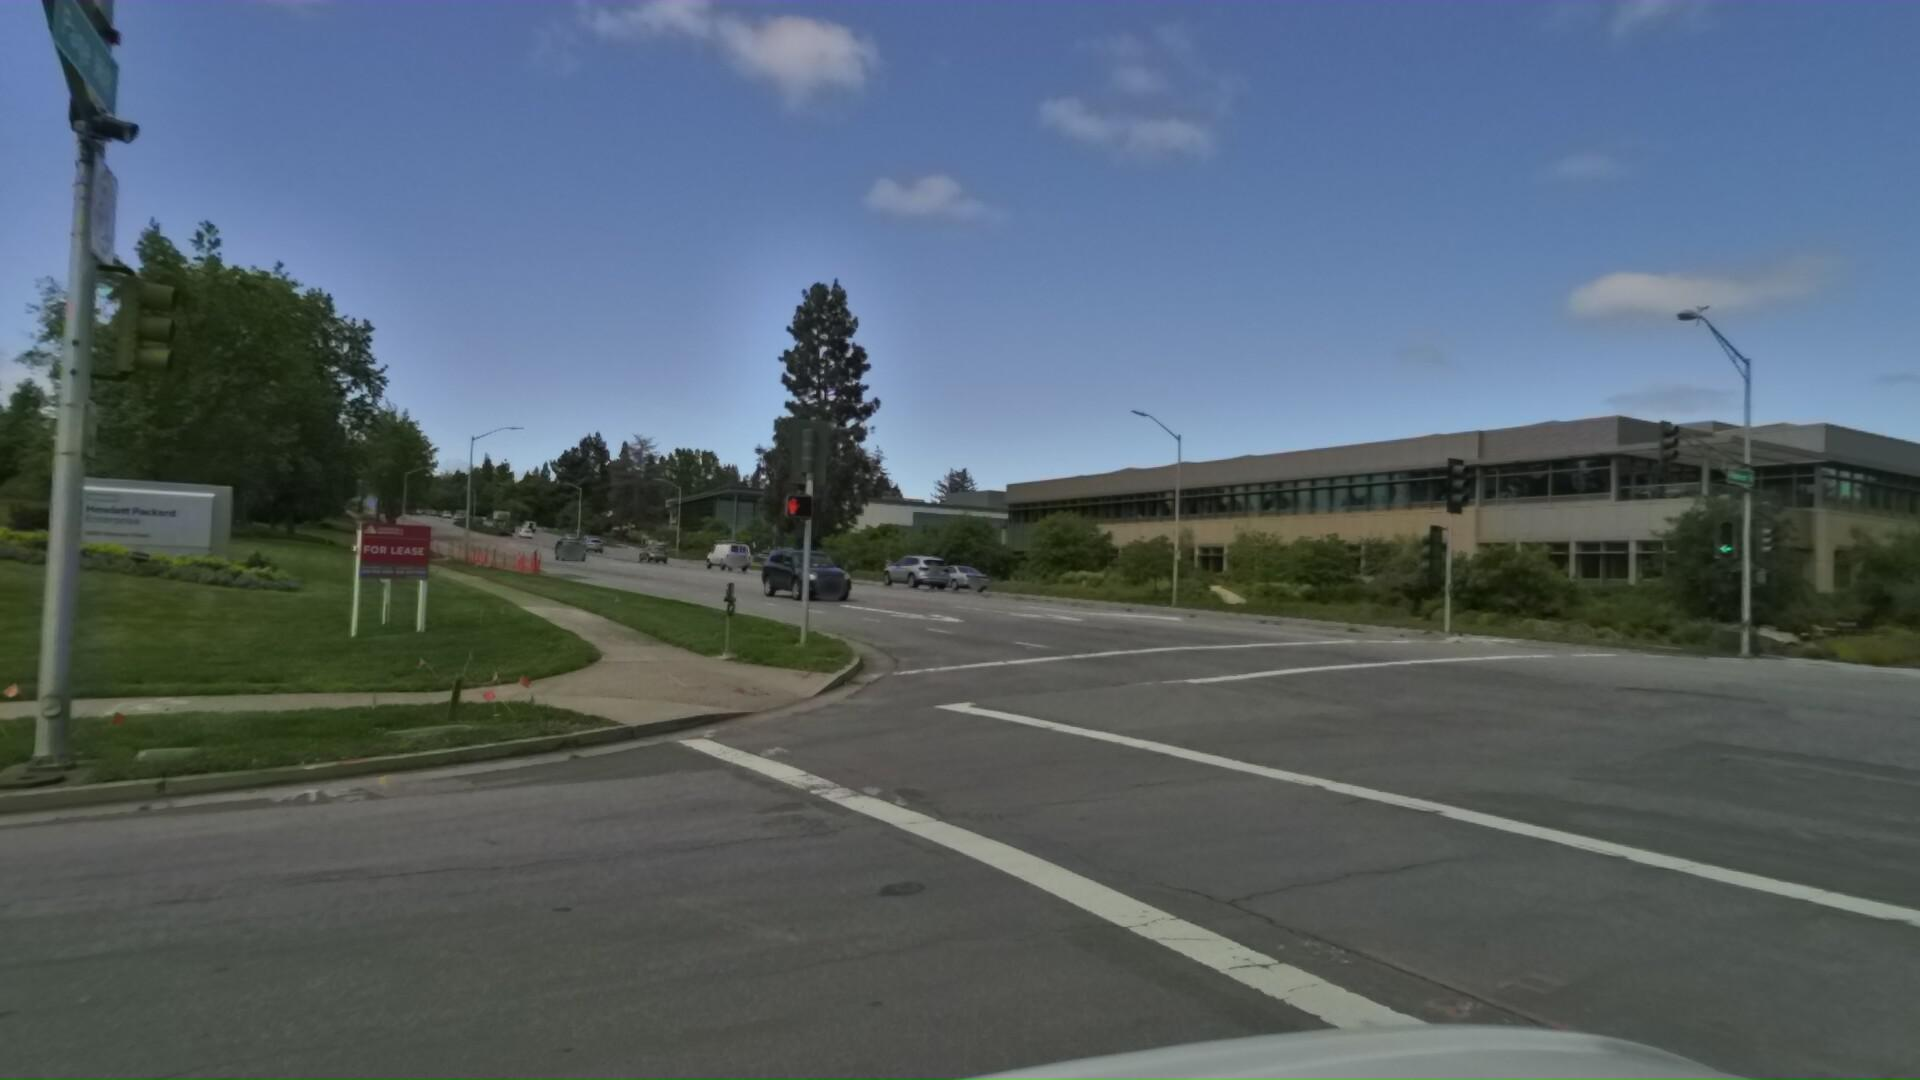car: (756, 547, 865, 603), (872, 553, 947, 587), (923, 563, 988, 589), (700, 535, 752, 568)
